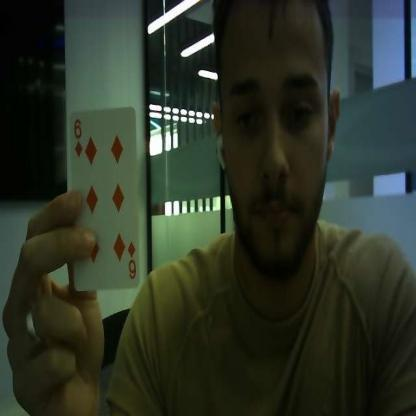6D: (72, 117, 83, 158), (126, 240, 137, 281)
